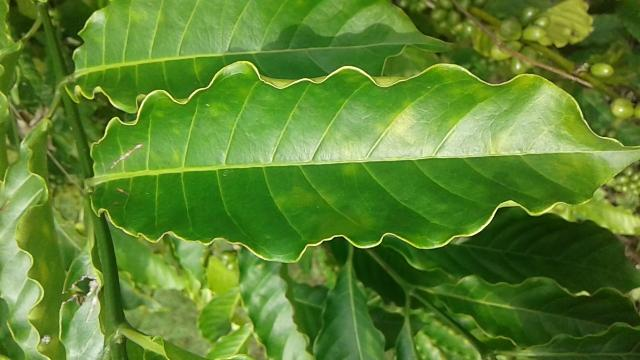healthy: (86, 57, 640, 269)
